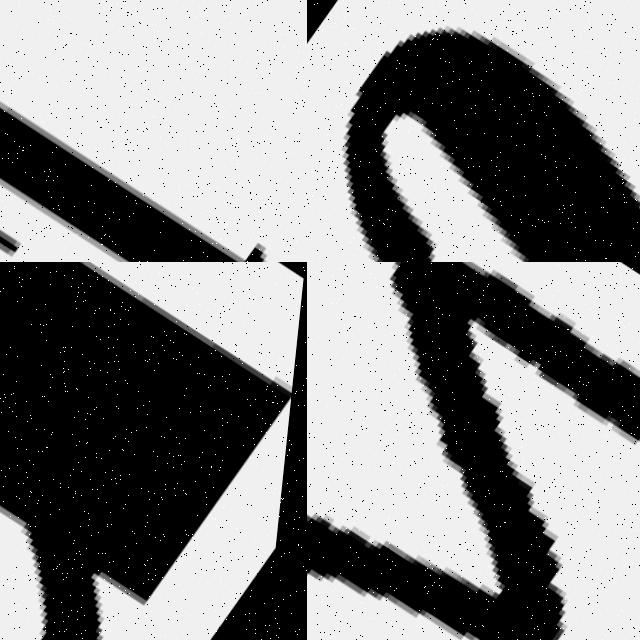C: (346, 24, 640, 262)
N: (307, 262, 640, 640)
R: (0, 262, 307, 640)
T: (0, 49, 307, 262)
